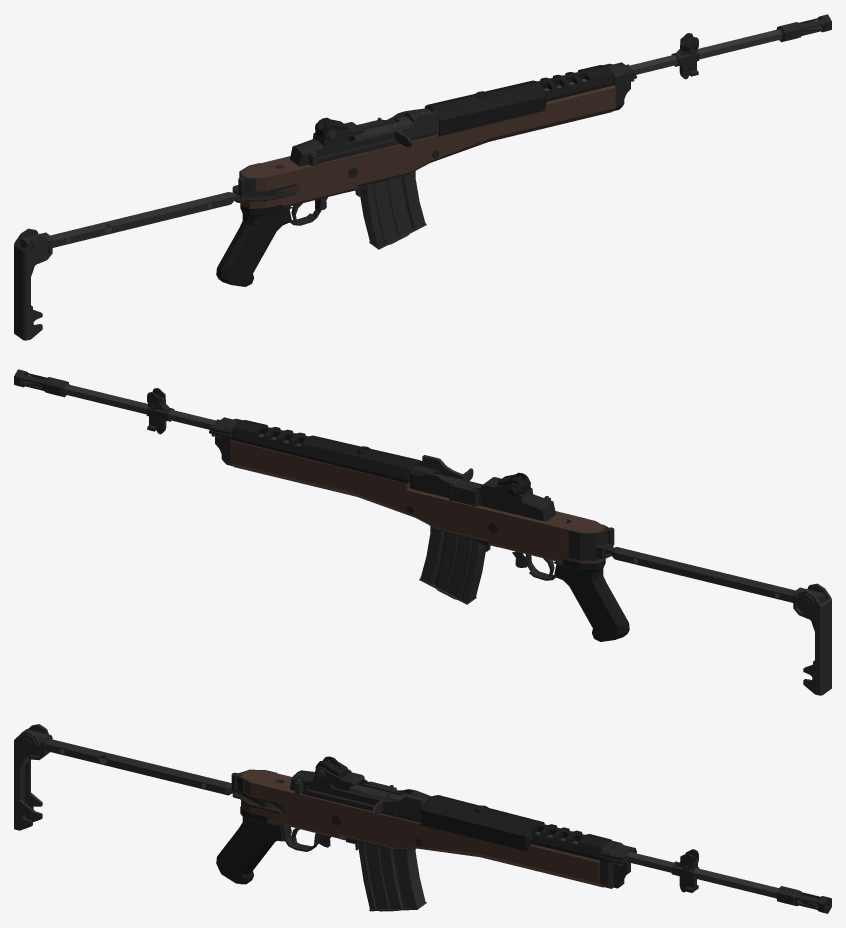
3 renders of one model, top to bottom at view 1: azimuth 30°, elevation 25°; view 2: azimuth 150°, elevation 25°; view 3: azimuth 330°, elevation 25°, orthographic.
Parts seen in each view (by area): view 1: Cylinder.016; view 2: Cylinder.016; view 3: Cylinder.016.
Part boxes in pixels (box(x1,y1,x2,y2)): Cylinder.016: box(14, 14, 831, 340); Cylinder.016: box(14, 369, 831, 695); Cylinder.016: box(14, 724, 831, 913).
Size of the model in its own units: 488 by 82.54 by 28.97.
